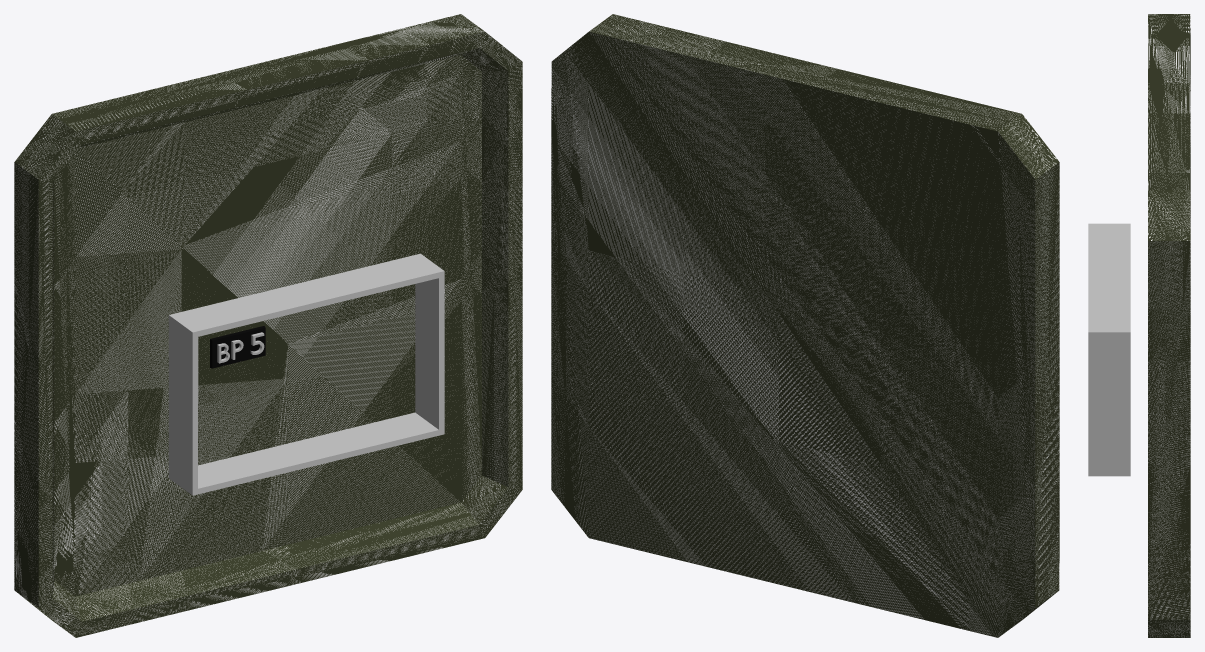
The picture shows the model from 3 angles, left to right: view 1: azimuth 30°, elevation 25°; view 2: azimuth 150°, elevation 25°; view 3: azimuth 270°, elevation 25°; orthographic projection. The views are drawn at different scales.
Parts seen in each view (by area): view 1: Button.001_ID13, Button_ID3, SM_CM_-_BP5_path1763-2.075; view 2: Button_ID3; view 3: Button_ID3, SM_CM_-_BP5_path1763-2.075.
Part boxes in pixels (bbox=[...]): Button.001_ID13: bbox=[52, 48, 508, 621]; Button_ID3: bbox=[14, 14, 522, 637]; SM_CM_-_BP5_path1763-2.075: bbox=[168, 253, 444, 495]; Button_ID3: bbox=[551, 14, 1059, 637]; Button_ID3: bbox=[1148, 14, 1190, 637]; SM_CM_-_BP5_path1763-2.075: bbox=[1088, 223, 1130, 476].
Size of the model in its own units: 1 by 1 by 0.207.
